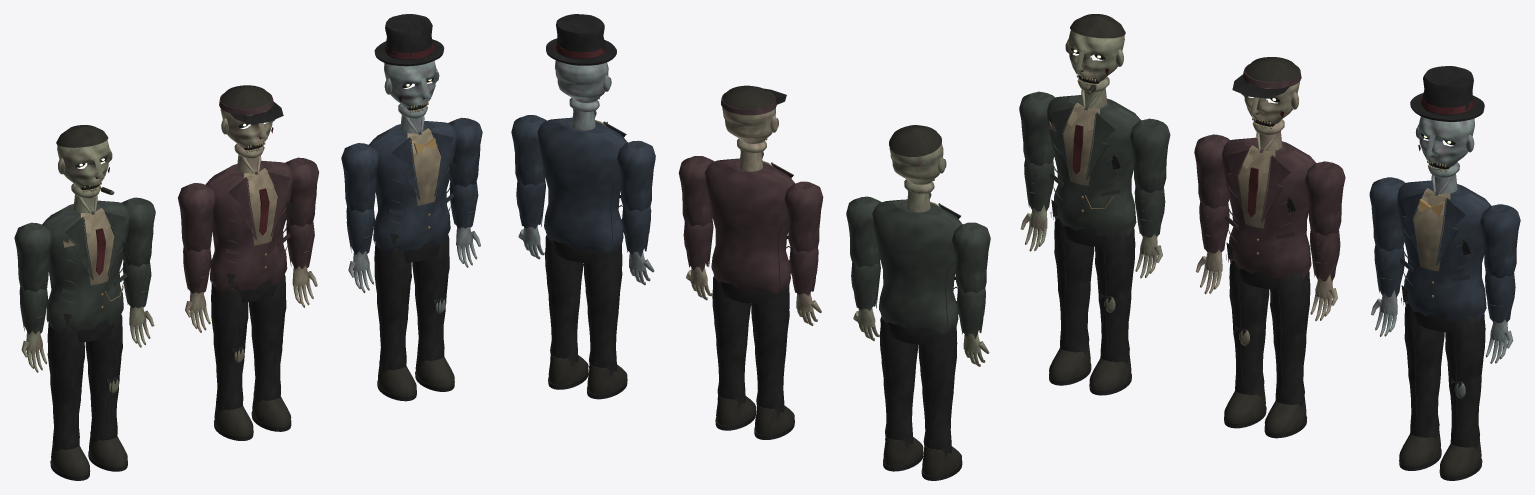
File: casino-undead.glb
The picture shows the model from 3 angles, left to right: view 1: azimuth 30°, elevation 25°; view 2: azimuth 150°, elevation 25°; view 3: azimuth 330°, elevation 25°; orthographic projection. The views are drawn at different scales.
Parts seen in each view (by area): view 1: Crooked Dealer / body / suit, Last Showman / body / suit, Pit Boss / body / suit, Last Showman / leftLeg / dark, Pit Boss / leftLeg / dark, Crooked Dealer / leftLeg / dark, Crooked Dealer / rightLeg / dark, Last Showman / rightLeg / dark, Pit Boss / rightLeg / dark, Last Showman / head / dark, Last Showman / leftArm / suit, Pit Boss / leftArm / suit (+34 smaller); view 2: Crooked Dealer / body / suit, Last Showman / body / suit, Pit Boss / body / suit, Crooked Dealer / leftLeg / dark, Last Showman / leftLeg / dark, Pit Boss / leftLeg / dark, Crooked Dealer / rightLeg / dark, Last Showman / rightLeg / dark, Pit Boss / rightLeg / dark, Last Showman / head / dark, Crooked Dealer / leftArm / suit, Pit Boss / leftArm / suit (+30 smaller); view 3: Crooked Dealer / body / suit, Last Showman / body / suit, Pit Boss / body / suit, Crooked Dealer / rightLeg / dark, Last Showman / rightLeg / dark, Pit Boss / rightLeg / dark, Pit Boss / leftLeg / dark, Last Showman / leftLeg / dark, Crooked Dealer / leftLeg / dark, Last Showman / head / dark, Crooked Dealer / rightArm / suit, Last Showman / rightArm / suit (+34 smaller).
Part boxes in pixels (x1,y1,x2,y2): Crooked Dealer / body / suit: (205,160,293,293); Last Showman / body / suit: (369,121,456,253); Pit Boss / body / suit: (42,200,129,332); Last Showman / leftLeg / dark: (374,243,416,401); Pit Boss / leftLeg / dark: (47,323,90,480); Crooked Dealer / leftLeg / dark: (211,283,253,440); Crooked Dealer / rightLeg / dark: (249,274,291,431); Last Showman / rightLeg / dark: (412,234,454,391); Pit Boss / rightLeg / dark: (85,314,127,471); Last Showman / head / dark: (374,14,444,66); Last Showman / leftArm / suit: (341,143,378,212); Pit Boss / leftArm / suit: (14,222,52,292); Crooked Dealer / body / suit: (705,158,794,293); Last Showman / body / suit: (537,117,627,252); Pit Boss / body / suit: (872,199,962,334); Crooked Dealer / leftLeg / dark: (751,286,794,439); Last Showman / leftLeg / dark: (583,245,627,399); Pit Boss / leftLeg / dark: (918,327,962,480); Crooked Dealer / rightLeg / dark: (712,276,756,430); Last Showman / rightLeg / dark: (545,235,588,389); Pit Boss / rightLeg / dark: (879,317,923,471); Last Showman / head / dark: (546,14,616,65); Crooked Dealer / leftArm / suit: (784,181,823,252); Pit Boss / leftArm / suit: (952,222,990,293); Crooked Dealer / body / suit: (1222,137,1316,278); Last Showman / body / suit: (1397,180,1491,321); Pit Boss / body / suit: (1047,95,1141,236); Crooked Dealer / rightLeg / dark: (1264,271,1310,438); Last Showman / rightLeg / dark: (1439,314,1485,480); Pit Boss / rightLeg / dark: (1089,228,1135,395); Pit Boss / leftLeg / dark: (1049,217,1094,385); Last Showman / leftLeg / dark: (1399,302,1444,470); Crooked Dealer / leftLeg / dark: (1224,260,1269,428); Last Showman / head / dark: (1410,66,1484,121); Crooked Dealer / rightArm / suit: (1305,161,1345,235); Last Showman / rightArm / suit: (1480,204,1520,278).
Bounding box in the file's own units: 2.69 × 1.98 × 0.385.
Materials: 30 (21 with a texture image).
